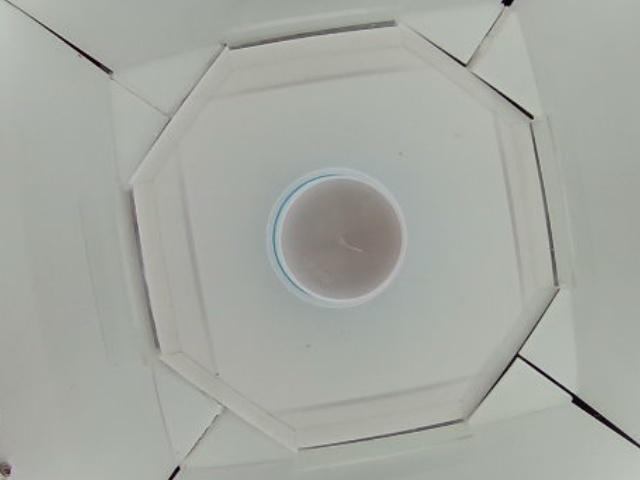Cup: (267, 165, 407, 304)
